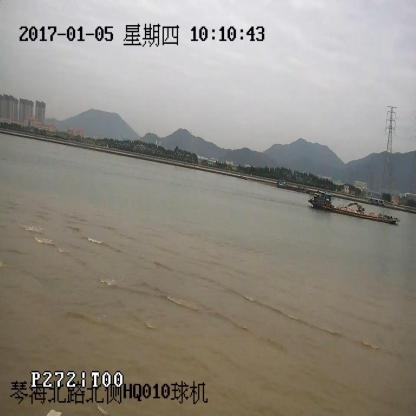Bulk Carrier: (311, 190, 397, 224)
